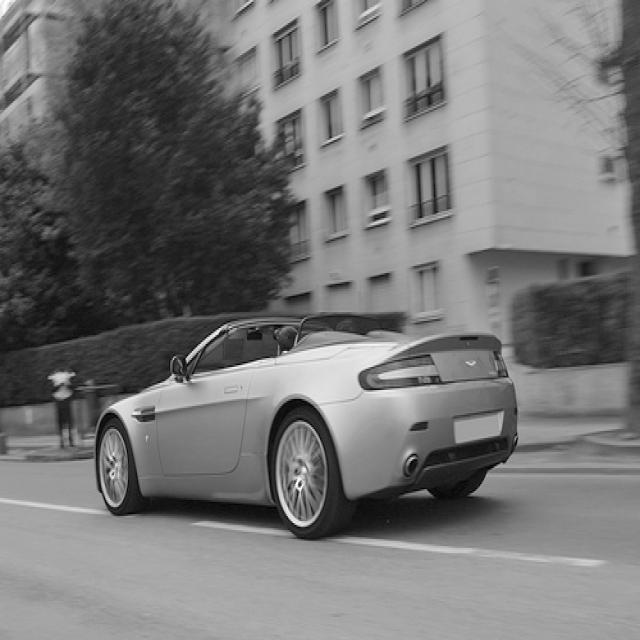car: (94, 310, 518, 539)
